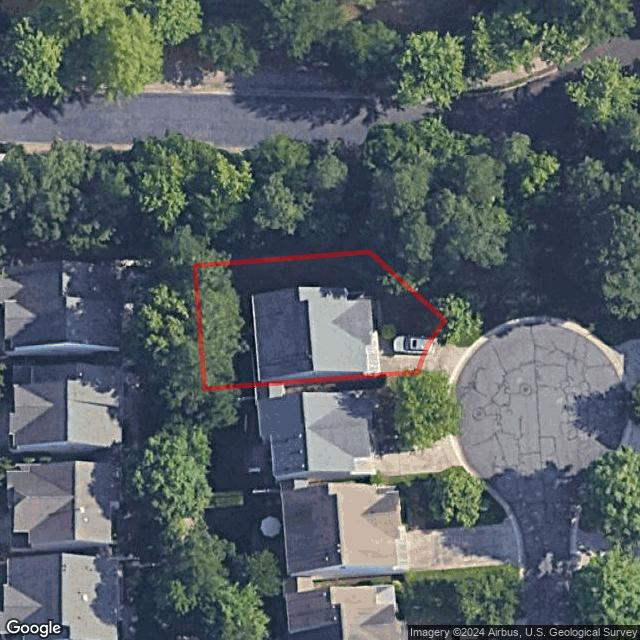Driveway: (374, 333, 437, 372)
Extra-Driveway: (418, 334, 471, 373)
Extra-Lawn: (436, 320, 475, 346)
House: (251, 286, 378, 381)
Lawn: (195, 252, 444, 388)
Sidewalk: (346, 290, 383, 332)
